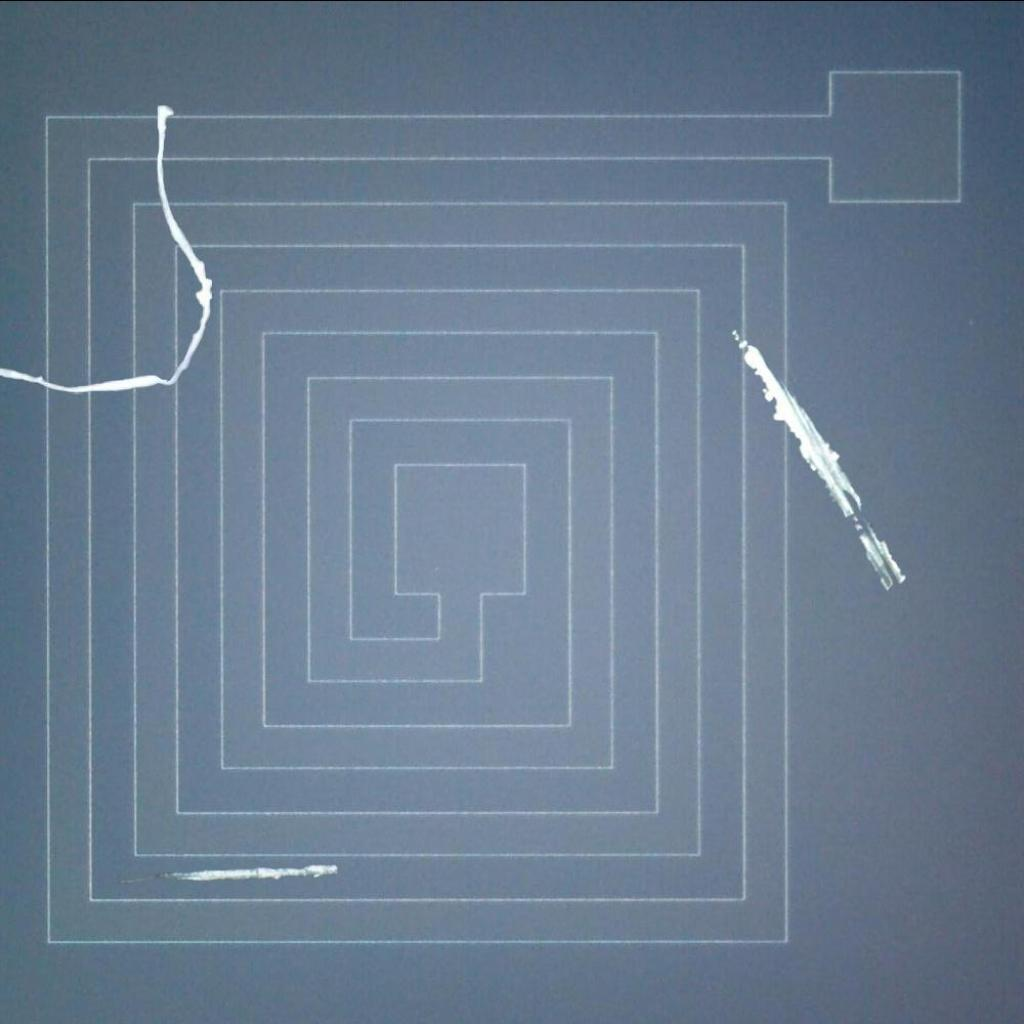line: (0, 94, 221, 400)
scratch: (728, 324, 910, 599), (148, 854, 350, 892)
